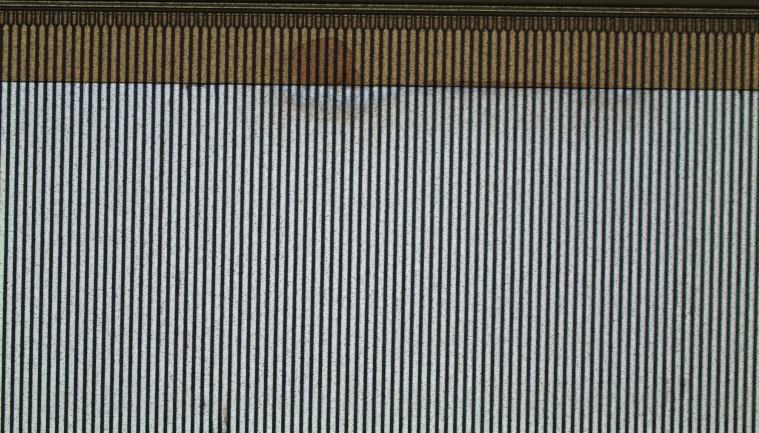SEZ BURNT: (201, 46, 665, 433), (273, 33, 526, 130)
